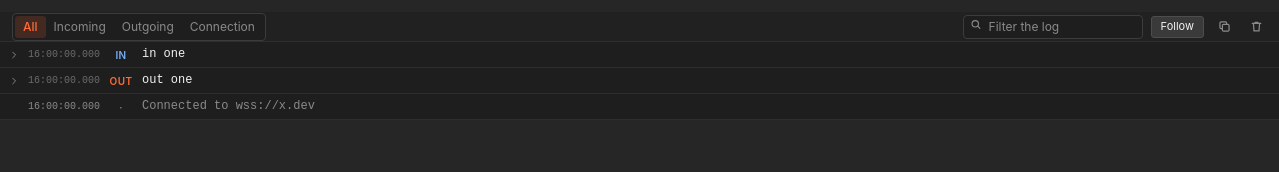
filtering › searches the text
Type "out" into the field labelled "Filter the log".
click(1053, 26); type("out")  # box [963,14,1143,38]
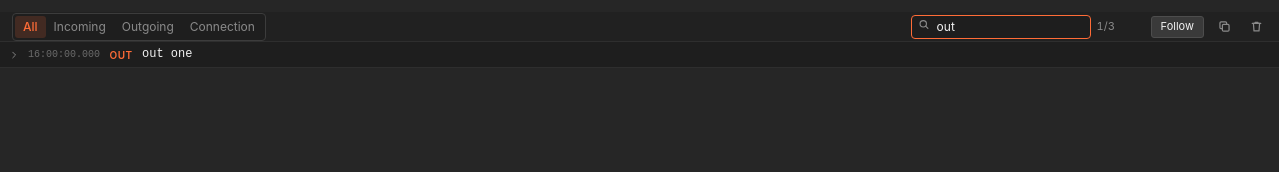
Expected: the text "out one" is shown, [142,47,192,61]
Expected: the button "in one" is gone
